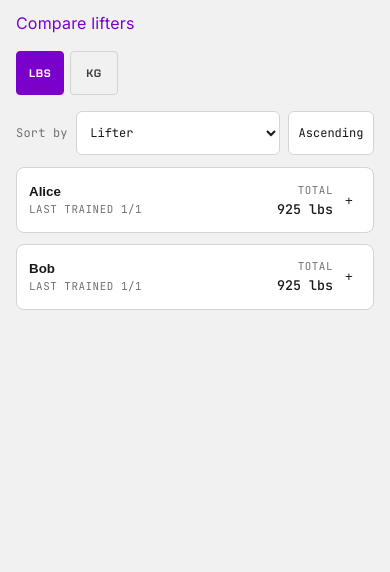
Test case: TeamSummaryPage › expands one mobile summary card at a time
This screenshot has width=390, height=572.
Click the button with aria-label "Show details for Alice" at (45, 192), box [17, 168, 373, 232]
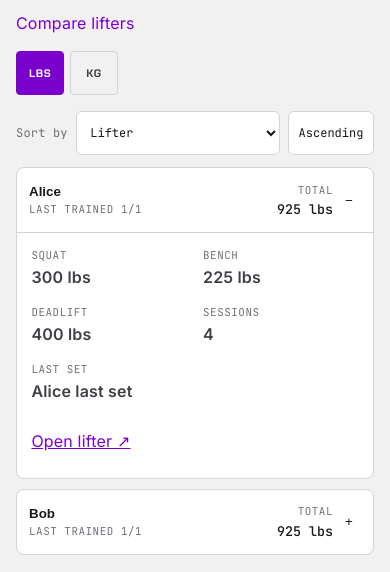
Now the text "Alice last set" is shown, box [31, 381, 132, 401]
Now the button with aria-label "Hide details for Alice" is shown, box [17, 168, 373, 232]
Click the button with aria-label "Show details for Bob" at (86, 531), box [17, 490, 373, 554]
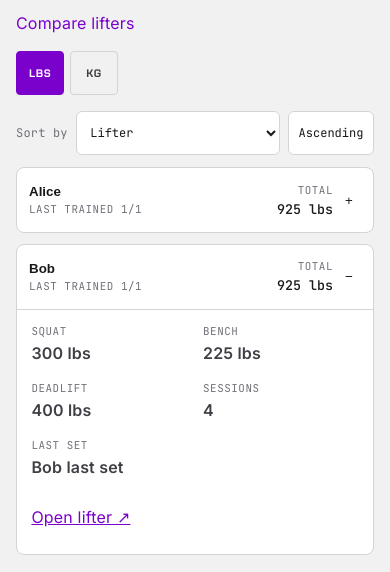
Now the text "Alice last set" is gone
Now the text "Bob last set" is shown, box [31, 457, 124, 477]
